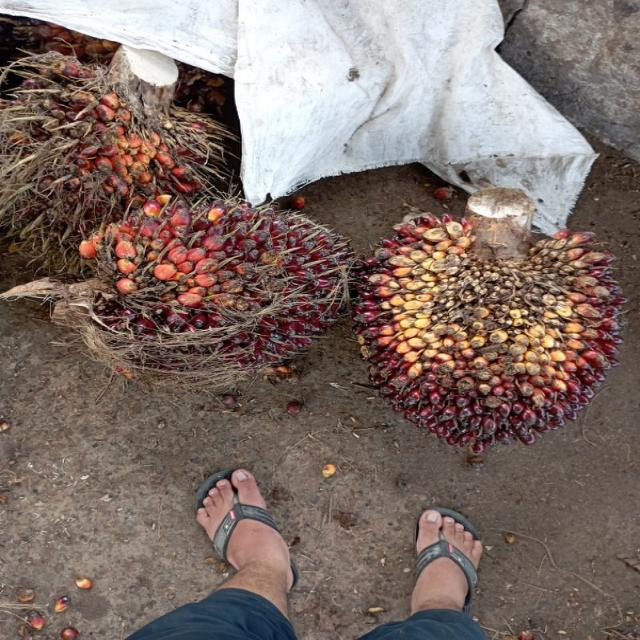fraksi 1: (360, 214, 629, 456), (67, 192, 352, 380), (0, 75, 224, 281)
